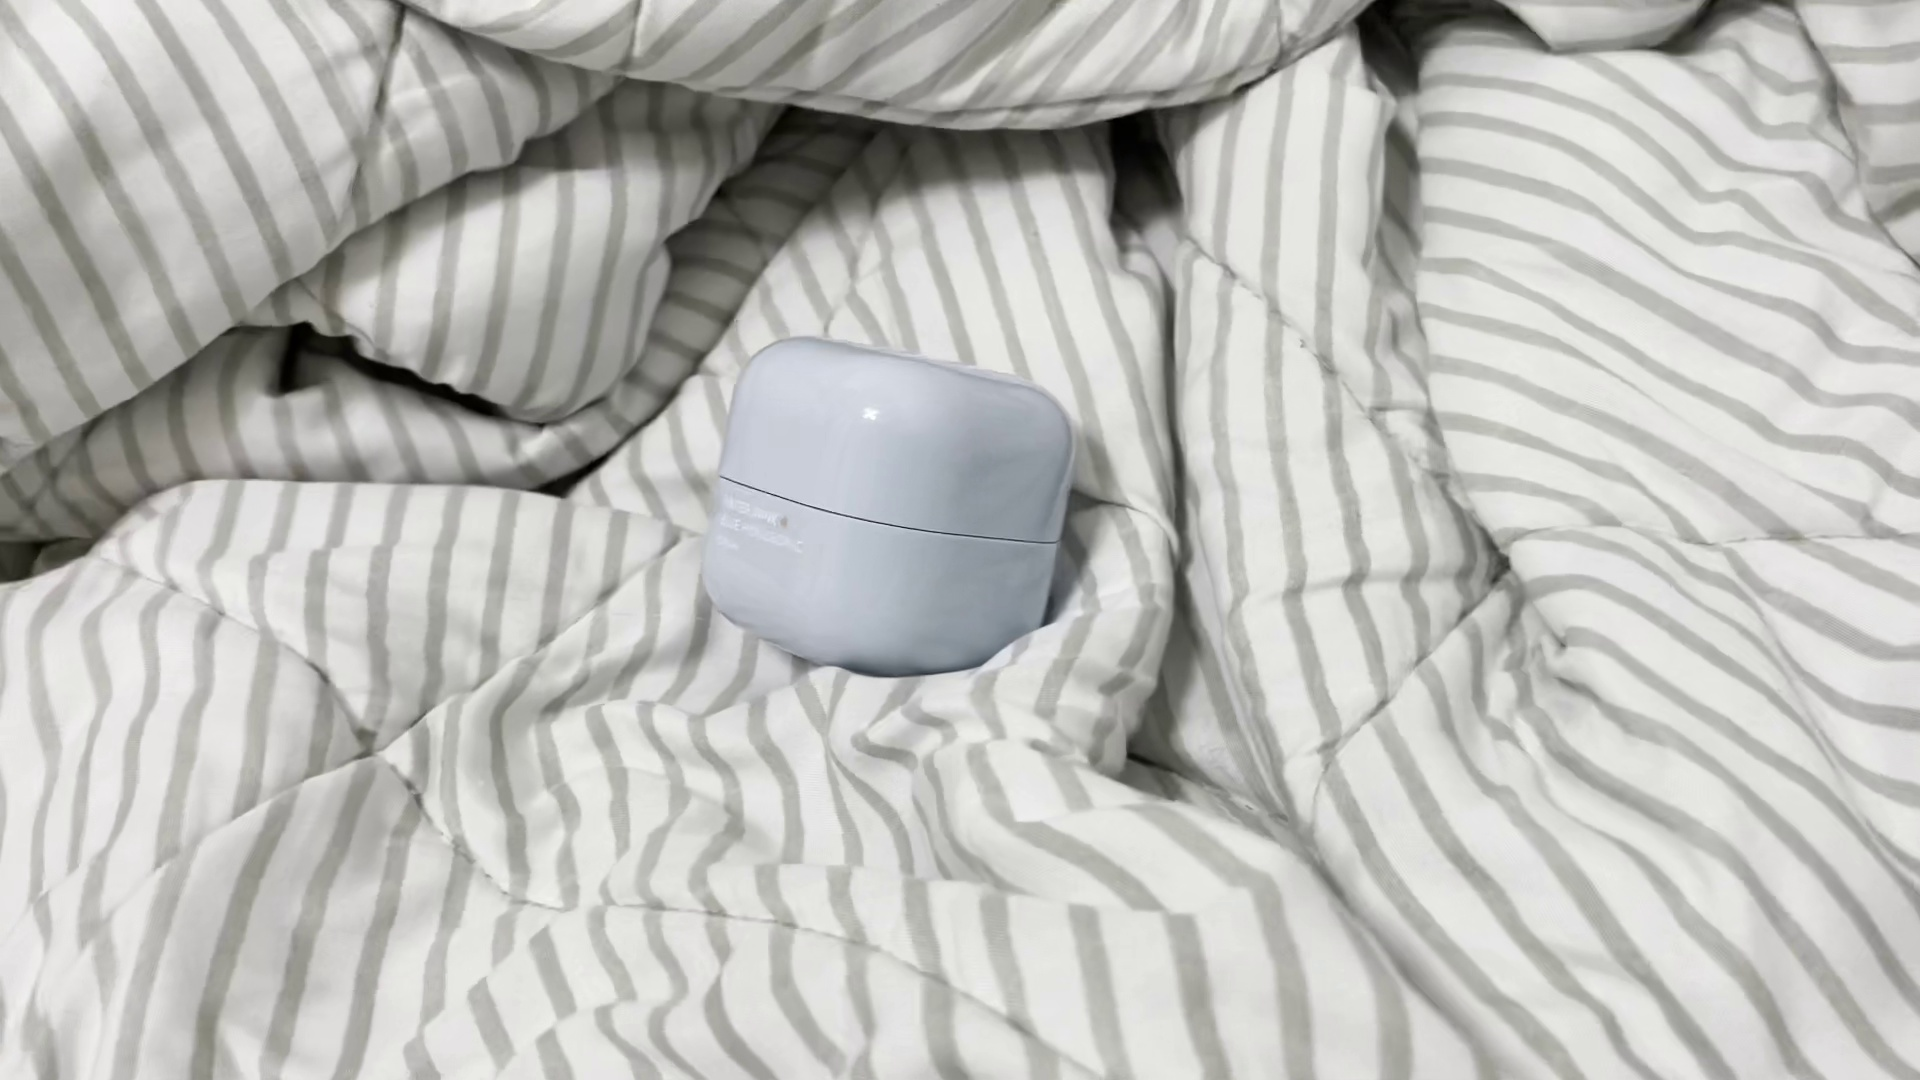cream: (699, 335, 1077, 680)
